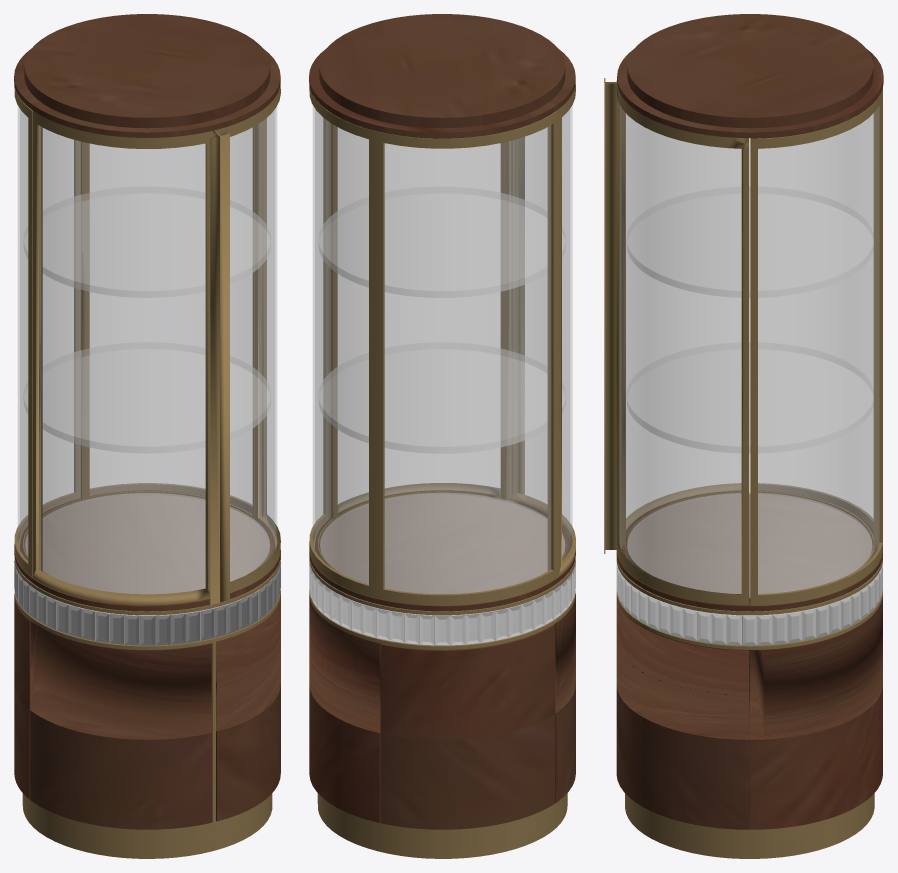
The model's file is display-vitrine.glb.
The picture shows the model from 3 angles, left to right: view 1: azimuth 30°, elevation 25°; view 2: azimuth 150°, elevation 25°; view 3: azimuth 270°, elevation 25°; orthographic projection.
Visible parts, largest first — view 1: Object_89, Object_8, Object_57, Object_95, Object_91, Object_87, Object_83, Object_81, Object_225, Object_227, Object_4, Object_85 (+7 smaller); view 2: Object_85, Object_8, Object_87, Object_10, Object_91, Object_83, Object_81, Object_225, Object_227, Object_55, Object_93, Object_89 (+6 smaller); view 3: Object_91, Object_87, Object_8, Object_57, Object_95, Object_89, Object_85, Object_83, Object_81, Object_225, Object_227, Object_6 (+4 smaller).
Boxes of the visible parts, x1,y1,x2,y2 form: Object_89: (39,125,205,593); Object_8: (14,14,280,137); Object_57: (30,684,280,829); Object_95: (30,595,280,739); Object_91: (230,107,276,581); Object_87: (90,128,252,512); Object_83: (24,342,270,453); Object_81: (24,186,270,297); Object_225: (14,495,280,611); Object_227: (25,493,269,593); Object_4: (32,111,219,605); Object_85: (18,106,80,559); Object_85: (385,125,550,593); Object_8: (309,14,575,138); Object_87: (313,106,368,583); Object_10: (309,86,557,605); Object_91: (338,128,500,512); Object_83: (319,342,565,453); Object_81: (319,187,565,297); Object_225: (309,495,575,611); Object_227: (320,493,564,593); Object_55: (380,714,555,829); Object_93: (380,624,555,739); Object_89: (509,105,572,559); Object_91: (620,106,741,593); Object_87: (758,106,879,593); Object_8: (617,14,883,138); Object_57: (616,686,882,829); Object_95: (616,596,882,739); Object_89: (626,114,741,529); Object_85: (758,114,873,529); Object_83: (627,342,873,453); Object_81: (627,187,873,297); Object_225: (616,494,882,611); Object_227: (627,493,871,597); Object_6: (604,83,749,605).
Size of the model in its own units: 0.586 by 1.8 by 0.6141.
Materials: 7 (3 with a texture image).
